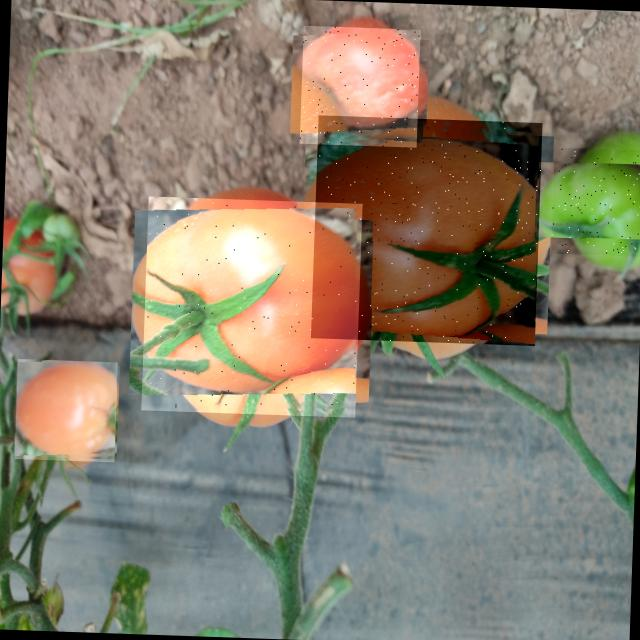Ripe Tomato: (310, 114, 542, 346), (141, 196, 362, 417), (299, 25, 420, 147), (14, 358, 117, 462)
Unripe Tomato: (550, 147, 640, 256)
